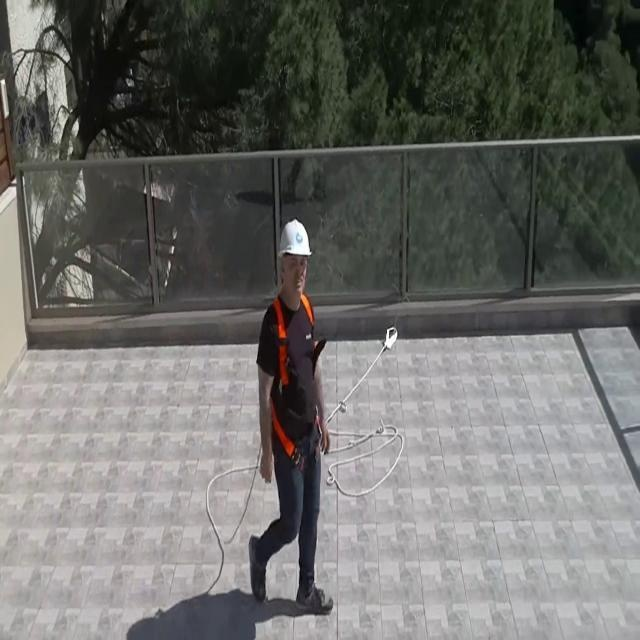Arnes_seguridad: (262, 296, 332, 464)
